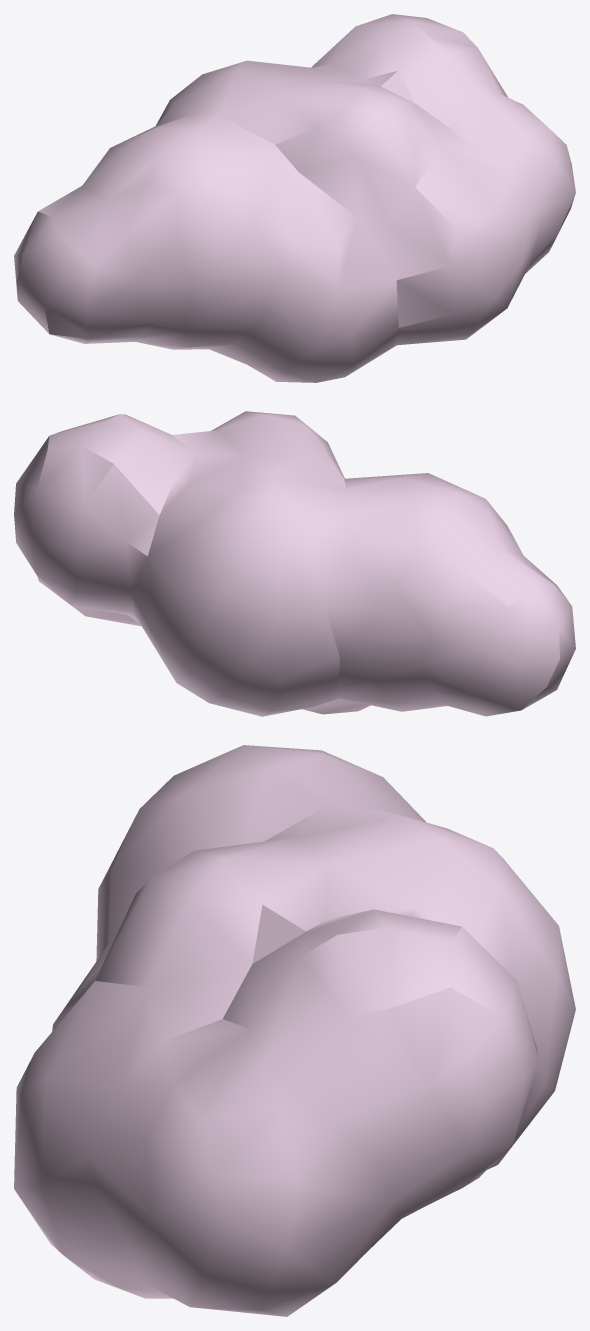
Rendered from cloud2.fbx.
3 views of the same model, one above another, from view 1: azimuth 30°, elevation 25°; view 2: azimuth 150°, elevation 25°; view 3: azimuth 270°, elevation 25° (orthographic). The views are drawn at different scales.
Parts seen in each view (by area): view 1: wolk2; view 2: wolk2; view 3: wolk2.
Part boxes in pixels (x1=…): wolk2: x1=14, y1=14, x2=575, y2=382; wolk2: x1=14, y1=411, x2=575, y2=716; wolk2: x1=14, y1=745, x2=575, y2=1316.
Size of the model in its own units: 157 by 77.47 by 91.74.
